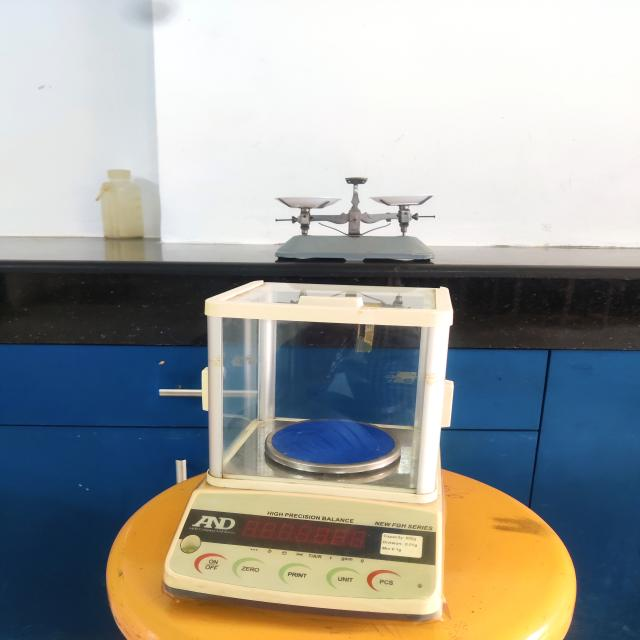Mechanical_Balance_Scale: (243, 149, 484, 278)
Precision_Weight_Scale: (139, 264, 486, 640)
